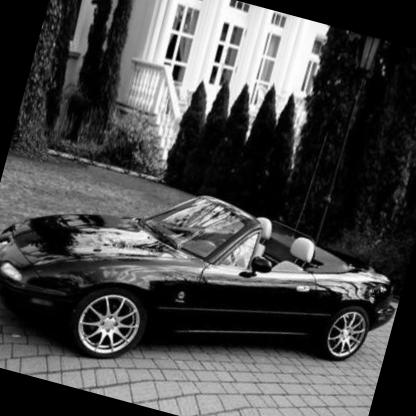car: (1, 145, 414, 416)
